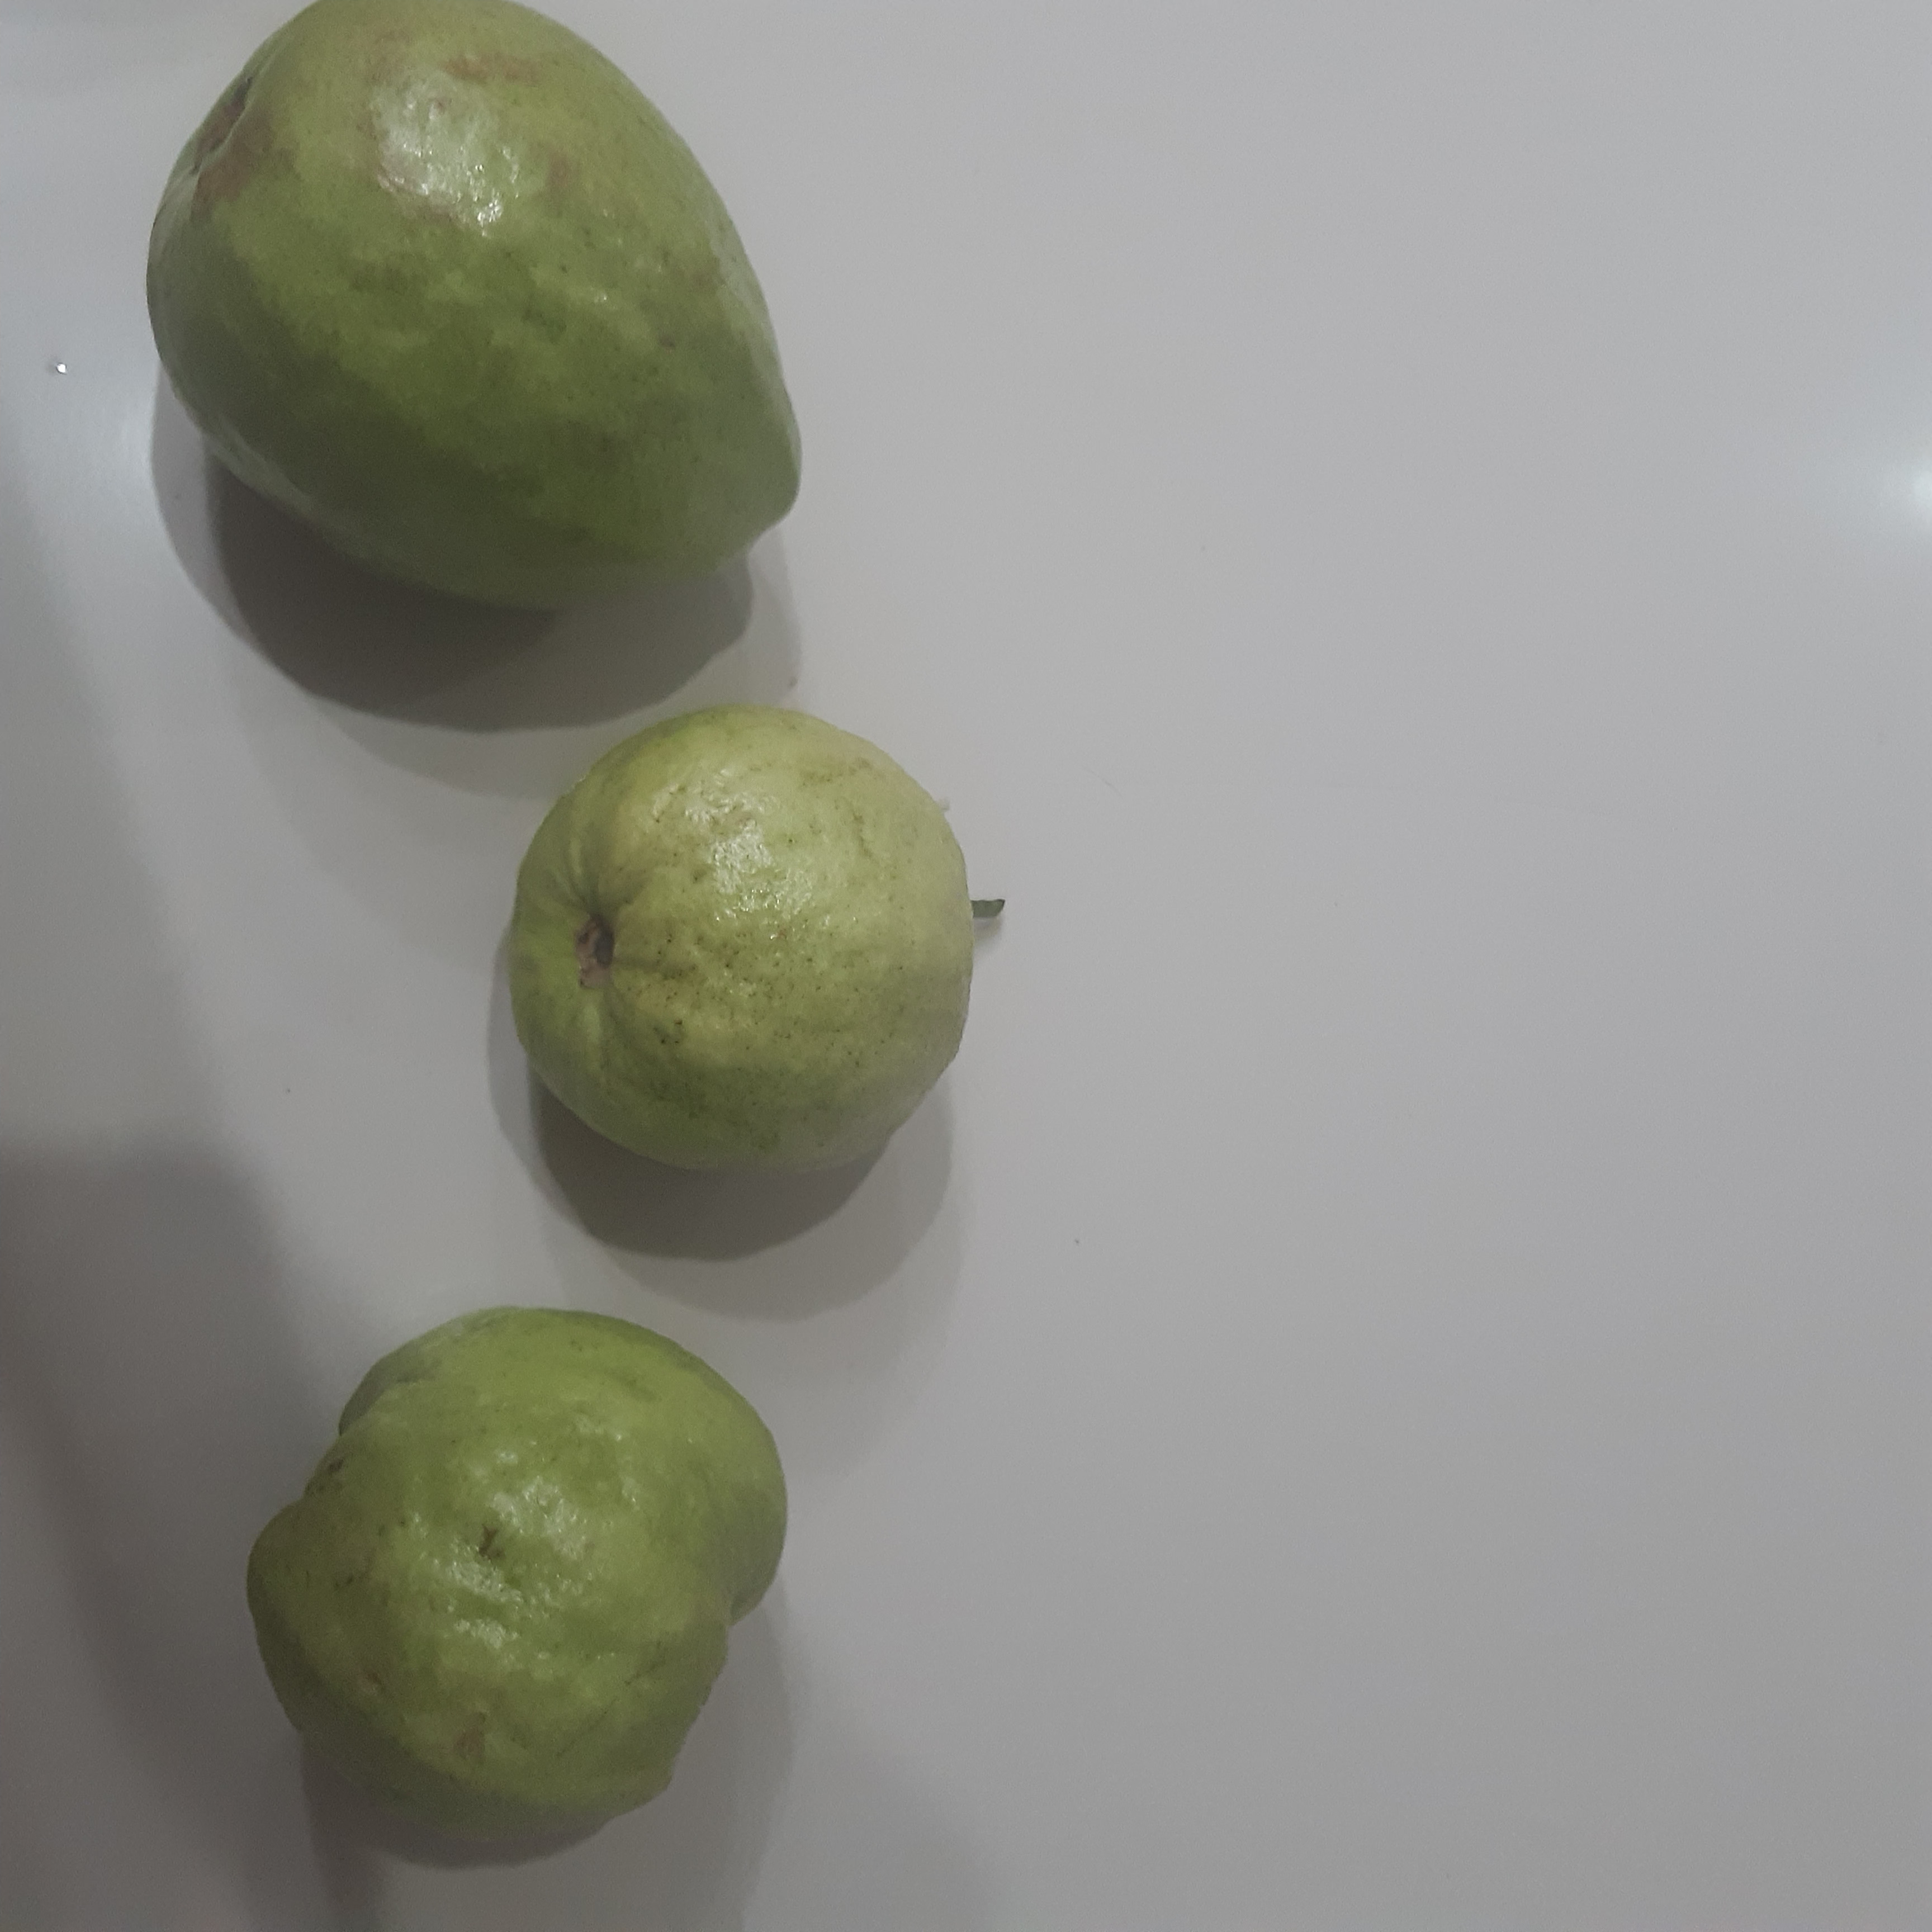Oi: (147, 0, 802, 613), (244, 1305, 787, 1845), (510, 700, 973, 1176)
